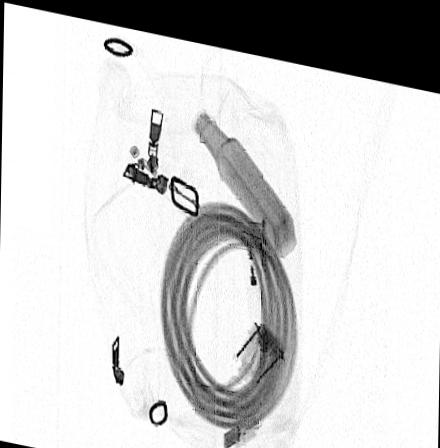Lighter: (244, 211, 265, 277)
